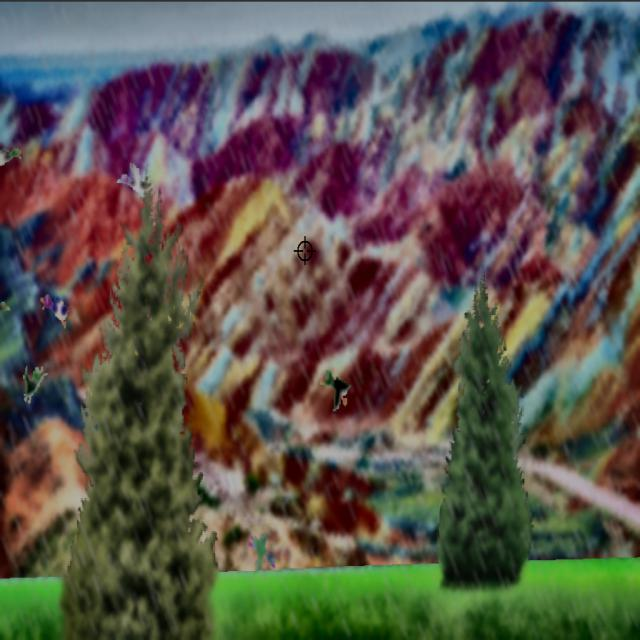duck: (110, 158, 162, 203), (316, 366, 356, 413), (37, 284, 74, 331), (245, 522, 277, 570), (20, 359, 47, 409), (0, 134, 20, 174)
